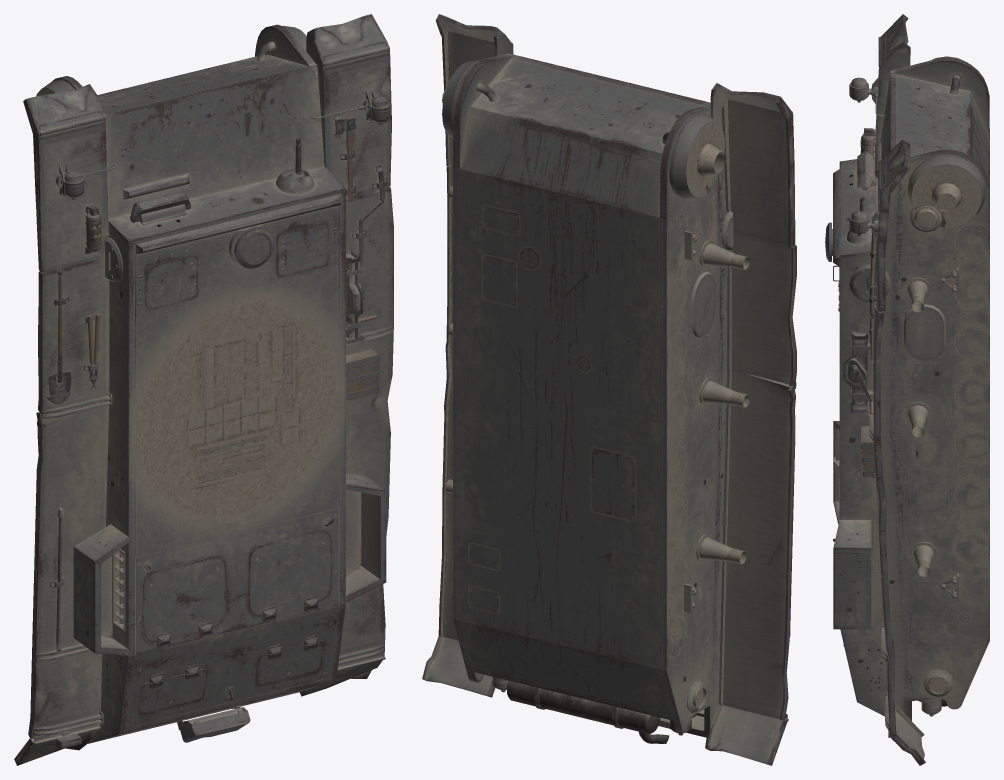
Rendered from Hull.glb.
The picture shows the model from 3 angles, left to right: view 1: azimuth 30°, elevation 25°; view 2: azimuth 150°, elevation 25°; view 3: azimuth 270°, elevation 25°; orthographic projection. The views are drawn at different scales.
Parts seen in each view (by area): view 1: set_0_group_0; view 2: set_0_group_0; view 3: set_0_group_0.
Boxes of the visible parts, <box> form: set_0_group_0: <box>14,14,393,765</box>; set_0_group_0: <box>422,14,796,765</box>; set_0_group_0: <box>825,14,989,765</box>.
Size of the model in its own units: 3.17 by 5.78 by 1.44.
Materials: 1 (1 with a texture image).
